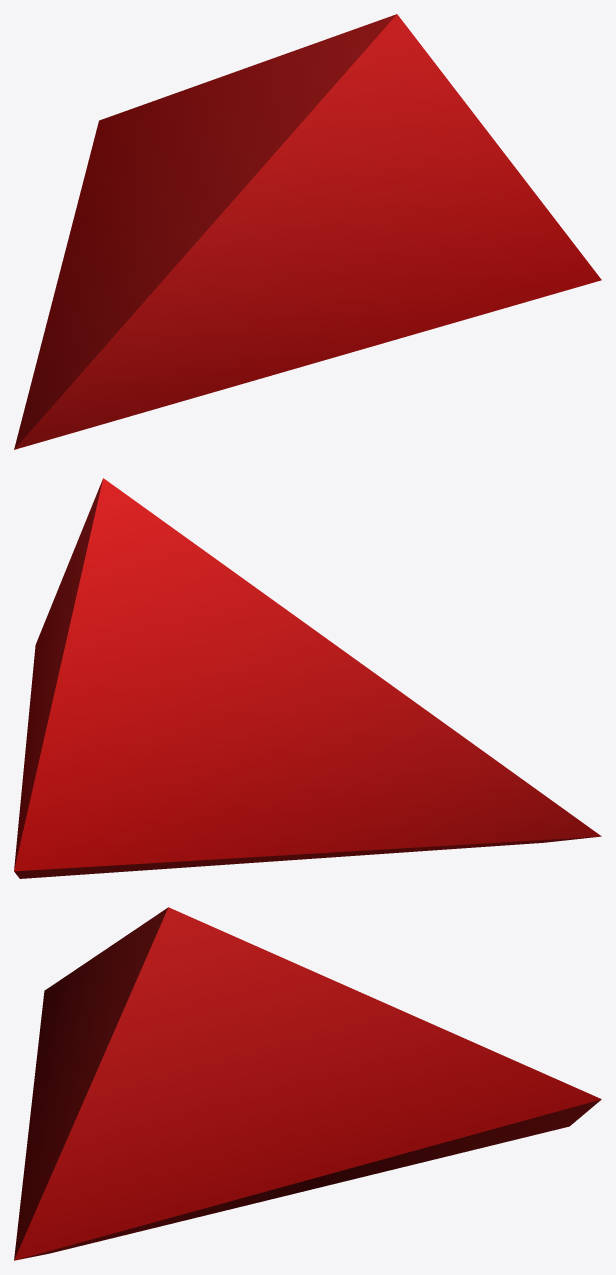
File: c_roof_triangle_ab.fbx
The picture shows the model from 3 angles, top to bottom: view 1: azimuth 30°, elevation 25°; view 2: azimuth 150°, elevation 25°; view 3: azimuth 270°, elevation 25°; orthographic projection. The views are drawn at different scales.
Visible parts, largest first — view 1: c_roof_triangle_ab; view 2: c_roof_triangle_ab; view 3: c_roof_triangle_ab.
Boxes of the visible parts, x1,y1,x2,y2 form: c_roof_triangle_ab: [14, 14, 601, 449]; c_roof_triangle_ab: [14, 478, 601, 878]; c_roof_triangle_ab: [14, 907, 601, 1260].
Size of the model in its own units: 9.99 by 4.93 by 7.9.
